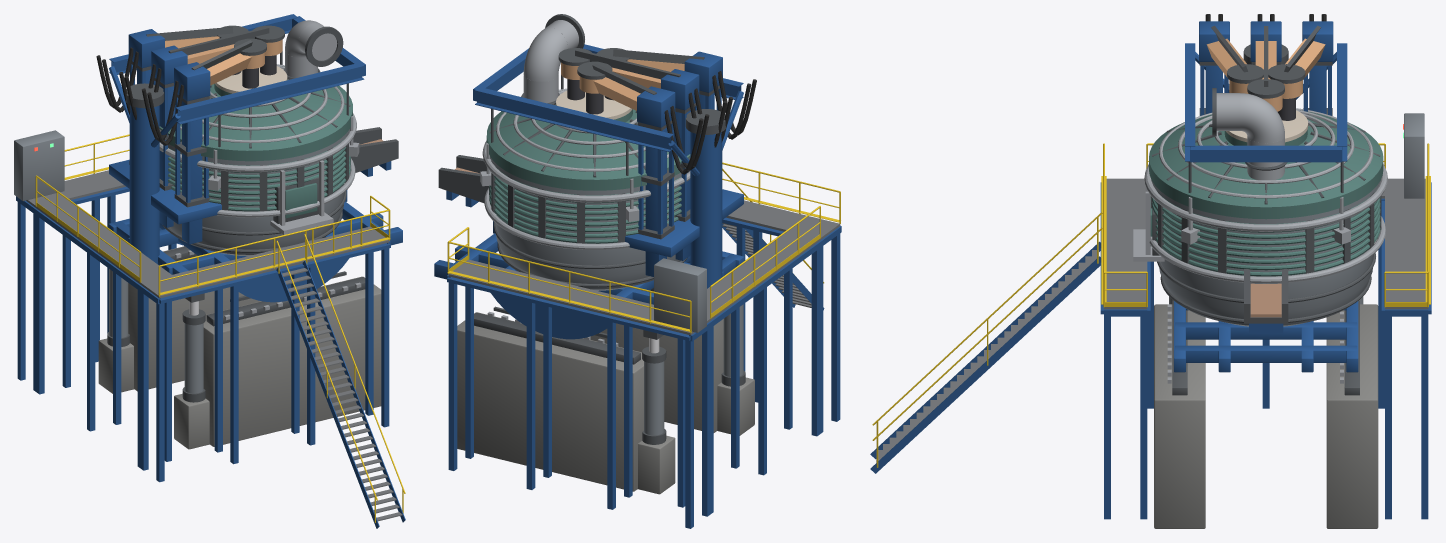
File: eaf.glb
3 views of the same model, side by side, from view 1: azimuth 30°, elevation 25°; view 2: azimuth 150°, elevation 25°; view 3: azimuth 270°, elevation 25° (orthographic). The views are drawn at different scales.
Parts seen in each view (by area): view 1: platform_geo, foundation_geo, roofPivot_geo, tilt_geo, stairs_geo, electrode_2_geo, electrode_1_geo, electrode_3_geo; view 2: platform_geo, foundation_geo, roofPivot_geo, tilt_geo, electrode_3_geo, electrode_1_geo, electrode_2_geo, stairs_geo; view 3: tilt_geo, roofPivot_geo, platform_geo, foundation_geo, stairs_geo, electrode_3_geo, electrode_2_geo, electrode_1_geo.
Part boxes in pixels (x1,y1,x2,y2): platform_geo: (14,130,390,482); foundation_geo: (98,246,381,449); roofPivot_geo: (109,14,365,264); tilt_geo: (108,113,402,315); stairs_geo: (276,234,405,528); electrode_2_geo: (141,38,266,244); electrode_1_geo: (119,25,284,227); electrode_3_geo: (96,25,248,112); platform_geo: (447,162,841,528); foundation_geo: (457,288,754,494); roofPivot_geo: (473,14,743,288); tilt_geo: (434,140,744,353); electrode_3_geo: (577,61,709,276); electrode_1_geo: (558,48,733,260); electrode_2_geo: (596,48,756,139); stairs_geo: (722,168,824,310); tilt_geo: (1133,164,1387,372); roofPivot_geo: (1149,43,1383,219); platform_geo: (1100,113,1431,519); foundation_geo: (1154,296,1378,528); stairs_geo: (870,212,1102,473); electrode_3_geo: (1268,14,1333,120); electrode_2_geo: (1199,14,1263,113); electrode_1_geo: (1247,14,1284,111).
Bounding box in the file's own units: 11.7 × 13.51 × 16.28.
